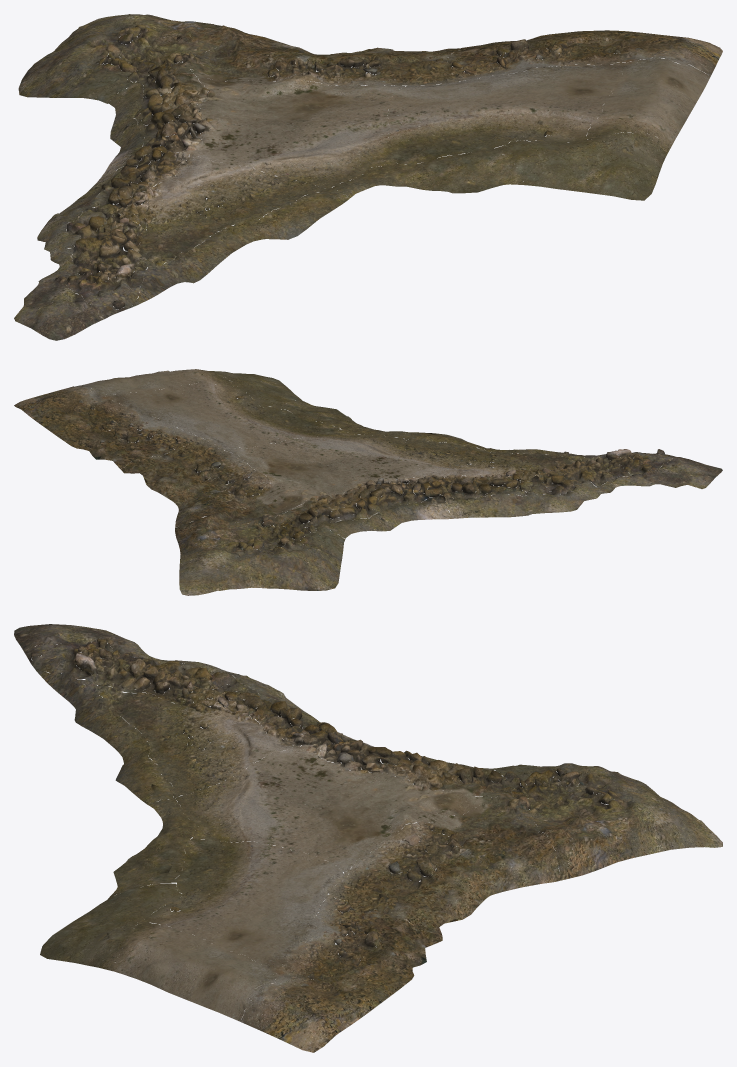
Rendered from shore_rocks_a.glb.
3 views of the same model, one above another, from view 1: azimuth 30°, elevation 25°; view 2: azimuth 150°, elevation 25°; view 3: azimuth 270°, elevation 25° (orthographic). The views are drawn at different scales.
Visible parts, largest first — view 1: coast_rocks_01; view 2: coast_rocks_01; view 3: coast_rocks_01.
Boxes of the visible parts, box(x1,y1,x2,y2) form: coast_rocks_01: box(14, 14, 722, 340); coast_rocks_01: box(14, 369, 722, 595); coast_rocks_01: box(14, 624, 722, 1052).
Size of the model in its own units: 59.5 by 3.28 by 42.52.
1 material, 1 textured.
